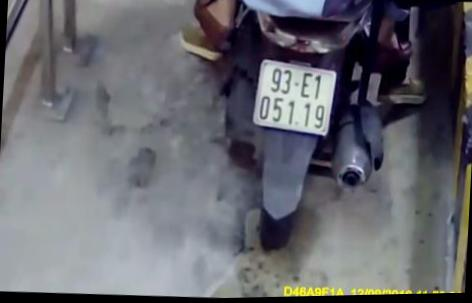LP: (255, 59, 336, 140)
